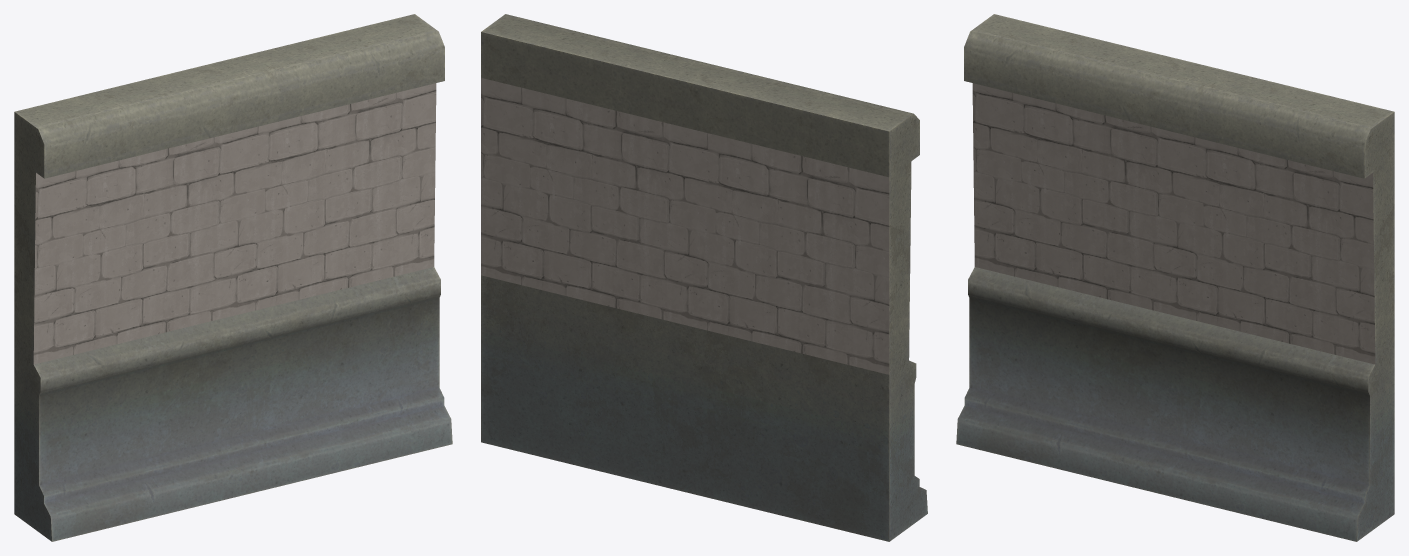
Rendered from AD_Wall_D_01.fbx.
3 views of the same model, side by side, from view 1: azimuth 30°, elevation 25°; view 2: azimuth 150°, elevation 25°; view 3: azimuth 330°, elevation 25° (orthographic).
Parts seen in each view (by area): view 1: AD_Wall_D_01; view 2: AD_Wall_D_01; view 3: AD_Wall_D_01.
Part boxes in pixels (bbox=[...]): AD_Wall_D_01: bbox=[14, 14, 452, 541]; AD_Wall_D_01: bbox=[481, 14, 927, 541]; AD_Wall_D_01: bbox=[956, 14, 1394, 541].
Size of the model in its own units: 800 by 768 by 131.
2 materials, 2 textured.
